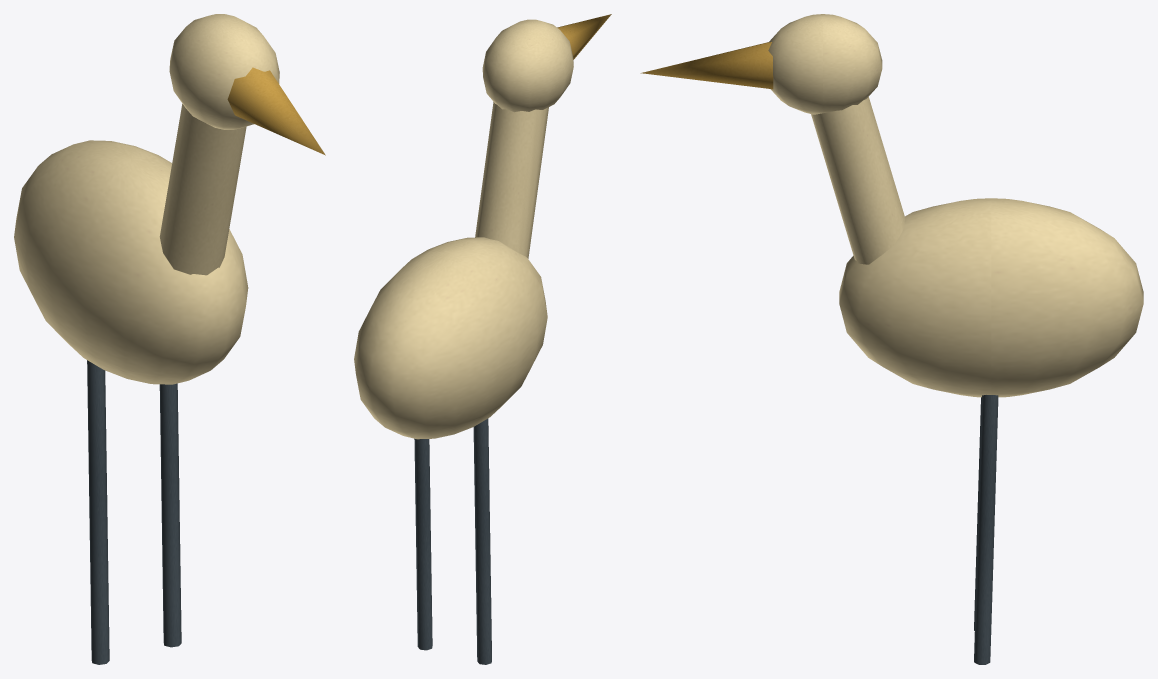
The model's file is heron.glb.
3 renders of one model, left to right at view 1: azimuth 30°, elevation 25°; view 2: azimuth 150°, elevation 25°; view 3: azimuth 270°, elevation 25°, orthographic. The views are drawn at different scales.
Visible parts, largest first — view 1: heron; view 2: heron; view 3: heron.
Part boxes in pixels (x1=…): heron: x1=14, y1=14, x2=325, y2=664; heron: x1=354, y1=14, x2=611, y2=664; heron: x1=640, y1=14, x2=1143, y2=664.
Size of the model in its own units: 0.36 by 1.48 by 1.07.
Materials: 3 (3 with a texture image).
